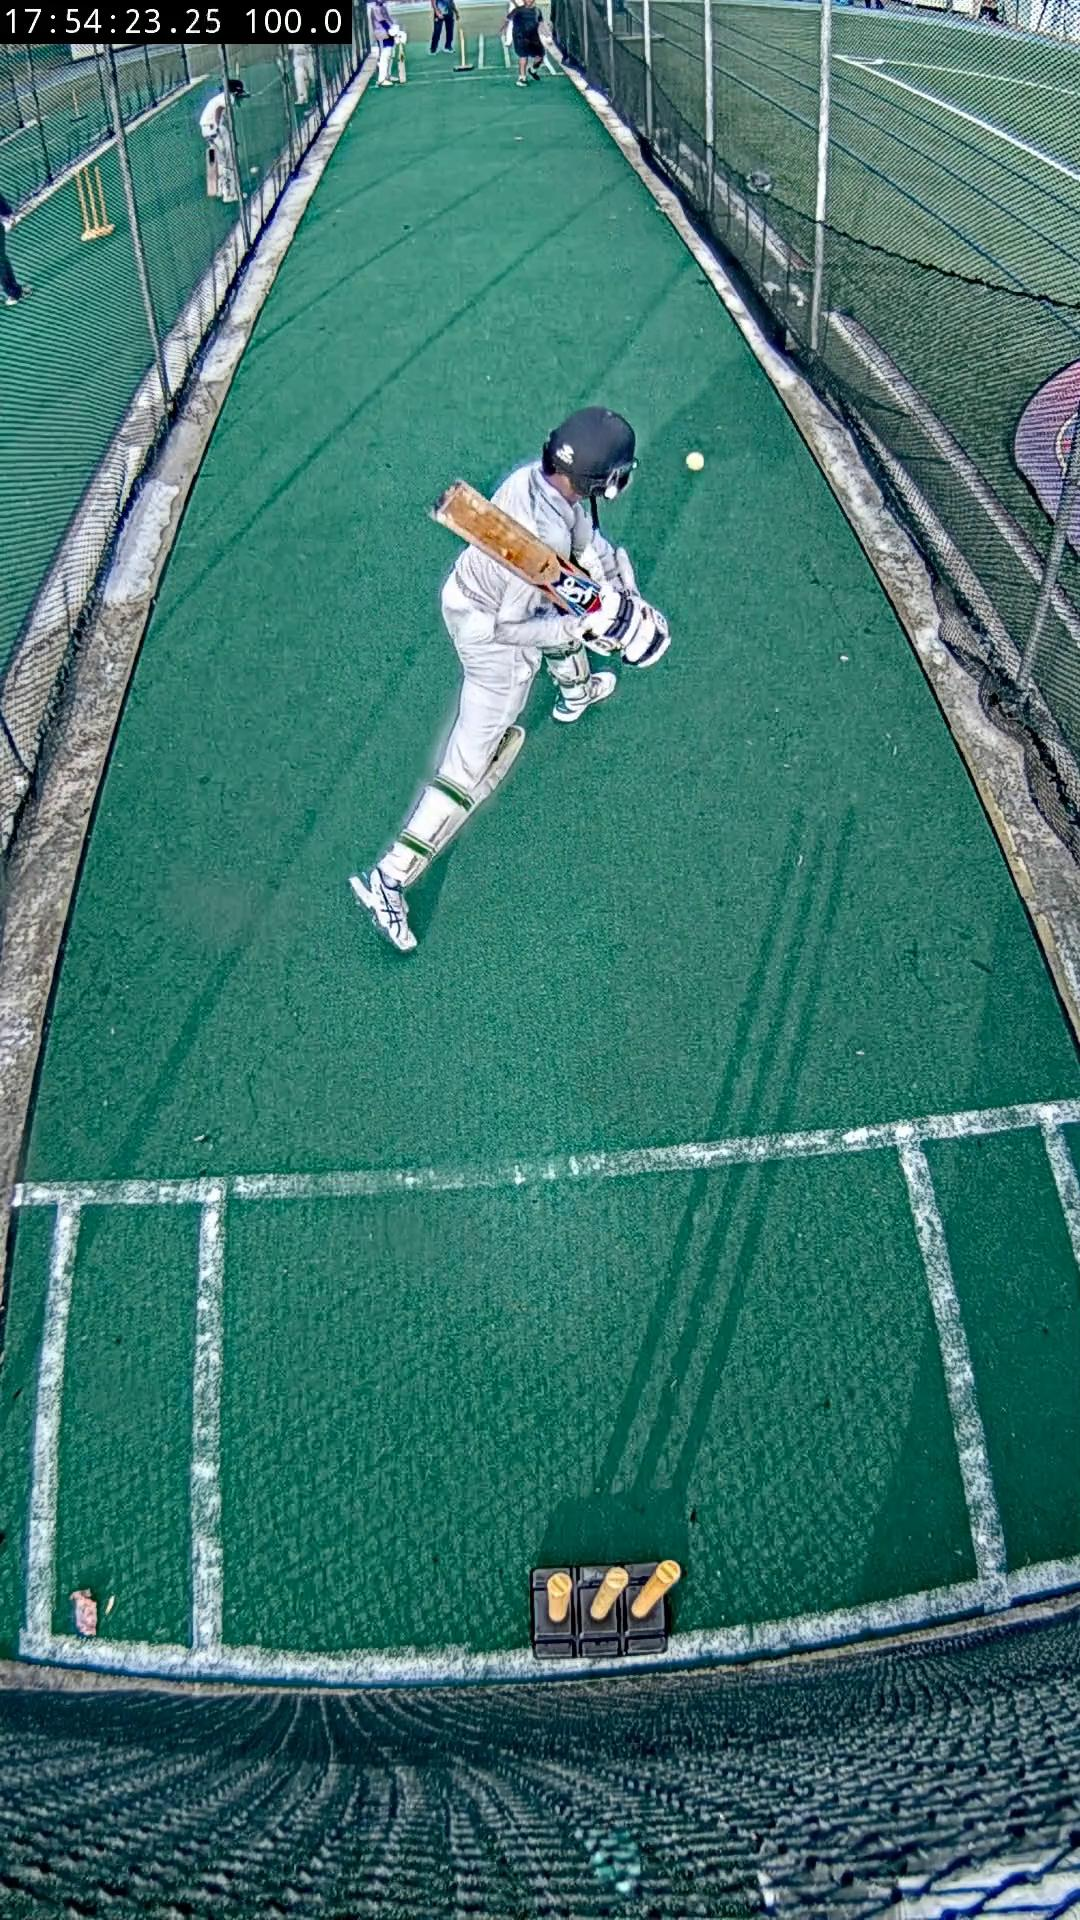ball: (686, 450, 705, 472)
bat: (431, 480, 600, 617)
gloves: (578, 585, 671, 667)
helmet: (543, 405, 634, 497)
pads: (431, 724, 525, 853)
stumps: (529, 1560, 683, 1662)
